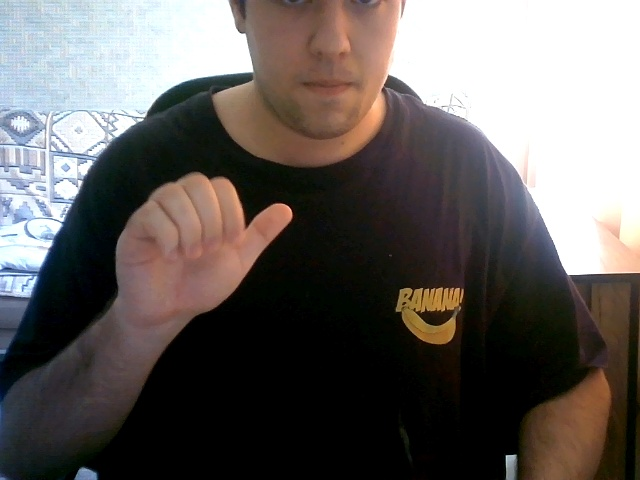goodbye: (93, 163, 322, 322)
